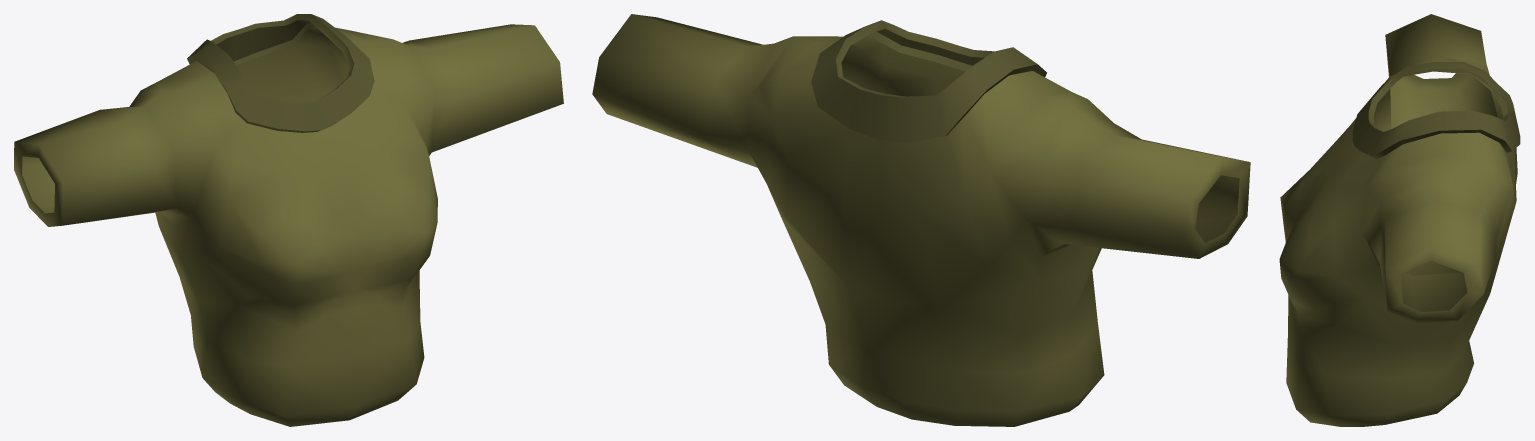
File: ShirtG.fbx
3 renders of one model, left to right at view 1: azimuth 30°, elevation 25°; view 2: azimuth 150°, elevation 25°; view 3: azimuth 270°, elevation 25°, orthographic. The views are drawn at different scales.
Visible parts, largest first — view 1: ShirtG; view 2: ShirtG; view 3: ShirtG.
Boxes of the visible parts, <box> form: ShirtG: <box>14,14,563,426</box>; ShirtG: <box>592,14,1250,426</box>; ShirtG: <box>1279,14,1520,426</box>.
Bounding box in the file's own units: 66.62 × 41.54 × 28.9.
